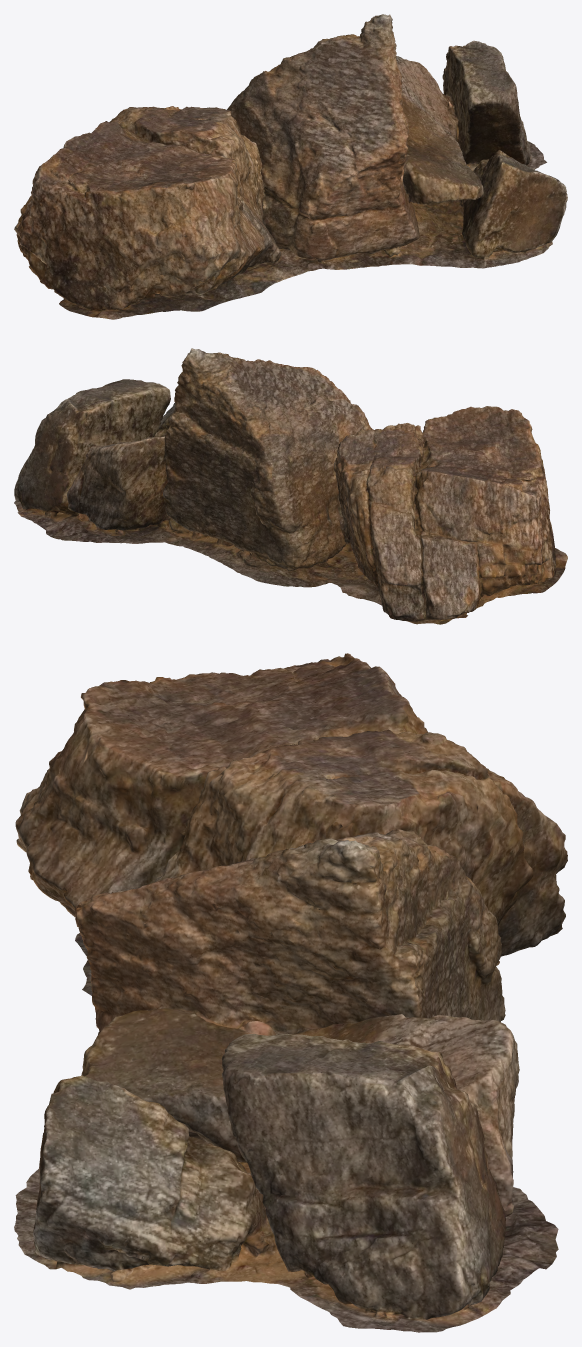
File: namaqualand_boulder_02.glb
The picture shows the model from 3 angles, top to bottom: view 1: azimuth 30°, elevation 25°; view 2: azimuth 150°, elevation 25°; view 3: azimuth 270°, elevation 25°; orthographic projection. The views are drawn at different scales.
Parts seen in each view (by area): view 1: boulder_02; view 2: boulder_02; view 3: boulder_02.
Boxes of the visible parts, <box> form: boulder_02: <box>14,14,567,319</box>; boulder_02: <box>14,348,567,624</box>; boulder_02: <box>14,653,567,1332</box>.
Size of the model in its own units: 2.53 by 0.8826 by 1.23.
Materials: 1 (1 with a texture image).
